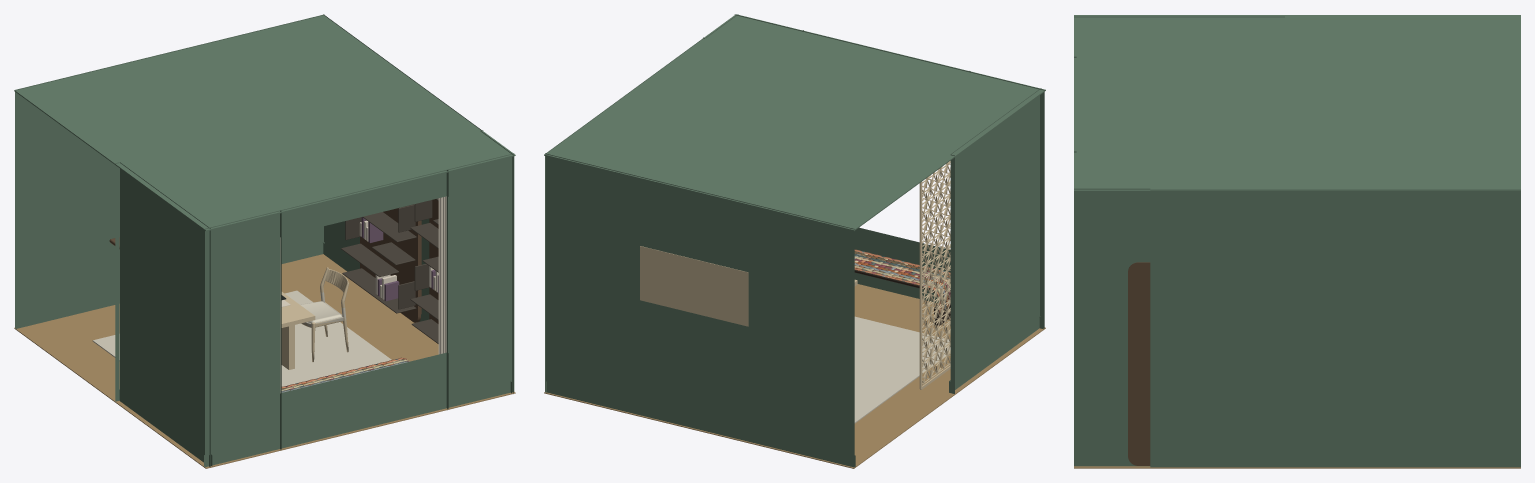
File: formal-1.glb
3 renders of one model, left to right at view 1: azimuth 30°, elevation 25°; view 2: azimuth 150°, elevation 25°; view 3: azimuth 270°, elevation 25°, orthographic. The views are drawn at different scales.
Parts seen in each view (by area): view 1: DESIGN | formal removable wall finish, DESIGN | formal ceiling finish, DESIGN | formal floor finish, DESIGN | Required Blabla bookcase 2, DESIGN | Formal ground, DESIGN | Required Blabla bookcase 1, DESIGN | Working chair facing desk, DESIGN | Formal soft window edge.001, DESIGN | Required Brera anniversary window bench, DESIGN | Working desk top, DESIGN | Working desk trestle.001; view 2: DESIGN | formal removable wall finish, DESIGN | formal ceiling finish, DESIGN | formal floor finish, DESIGN | Kumiko | Study light-filter beside the entry, DESIGN | Quiet artwork frame, DESIGN | Formal ground, DESIGN | Required Brera anniversary window bench; view 3: DESIGN | formal removable wall finish, DESIGN | formal ceiling finish, DESIGN | Required Blabla bookcase 1, DESIGN | formal floor finish.
Boxes of the visible parts, box(x1,y1,x2,y2) form: DESIGN | formal removable wall finish: box(15, 14, 514, 466); DESIGN | formal ceiling finish: box(14, 15, 515, 231); DESIGN | formal floor finish: box(14, 254, 515, 468); DESIGN | Required Blabla bookcase 2: box(341, 204, 421, 322); DESIGN | Formal ground: box(92, 290, 391, 386); DESIGN | Required Blabla bookcase 1: box(410, 198, 438, 343); DESIGN | Working chair facing desk: box(300, 267, 349, 361); DESIGN | Formal soft window edge.001: box(438, 196, 446, 354); DESIGN | Required Brera anniversary window bench: box(281, 357, 409, 392); DESIGN | Working desk top: box(281, 292, 315, 327); DESIGN | Working desk trestle.001: box(281, 325, 294, 369); DESIGN | formal removable wall finish: box(545, 14, 1044, 467); DESIGN | formal ceiling finish: box(544, 14, 1045, 231); DESIGN | formal floor finish: box(544, 284, 1045, 468); DESIGN | Kumiko | Study light-filter beside the entry: box(919, 161, 950, 389); DESIGN | Quiet artwork frame: box(640, 246, 748, 326); DESIGN | Formal ground: box(854, 316, 950, 423); DESIGN | Required Brera anniversary window bench: box(854, 249, 950, 325); DESIGN | formal removable wall finish: box(1074, 16, 1520, 467); DESIGN | formal ceiling finish: box(1074, 15, 1520, 191); DESIGN | Required Blabla bookcase 1: box(1128, 262, 1150, 465); DESIGN | formal floor finish: box(1074, 466, 1520, 468).
Bounding box in the file's own units: 3.71 × 2.74 × 3.98.
